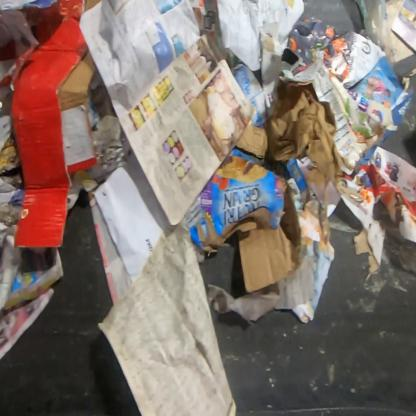cardboard: (9, 0, 104, 249), (182, 148, 302, 293), (233, 81, 342, 183)
soft_plastic: (358, 4, 395, 64)
